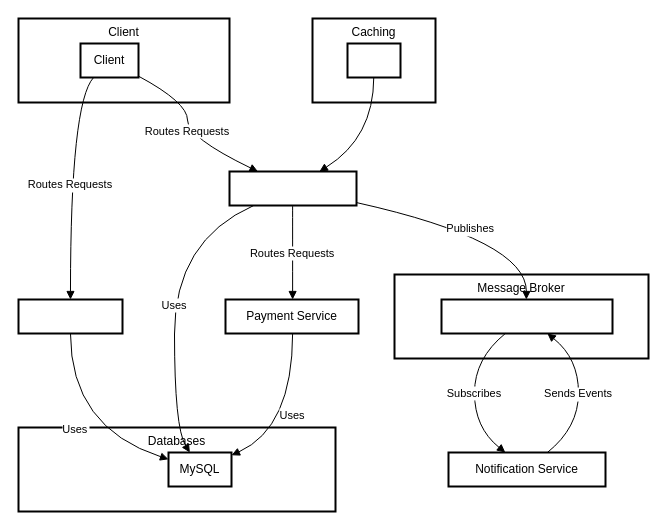
Some shapes in this 666 by 529 pixel diagram are drawn without their labels. The centre of each missing label's shape, as x and y in pixels:
Kafka Message Broker: (526,316)
Product Service: (292,188)
Redis: (373,60)
User Service: (70,316)
